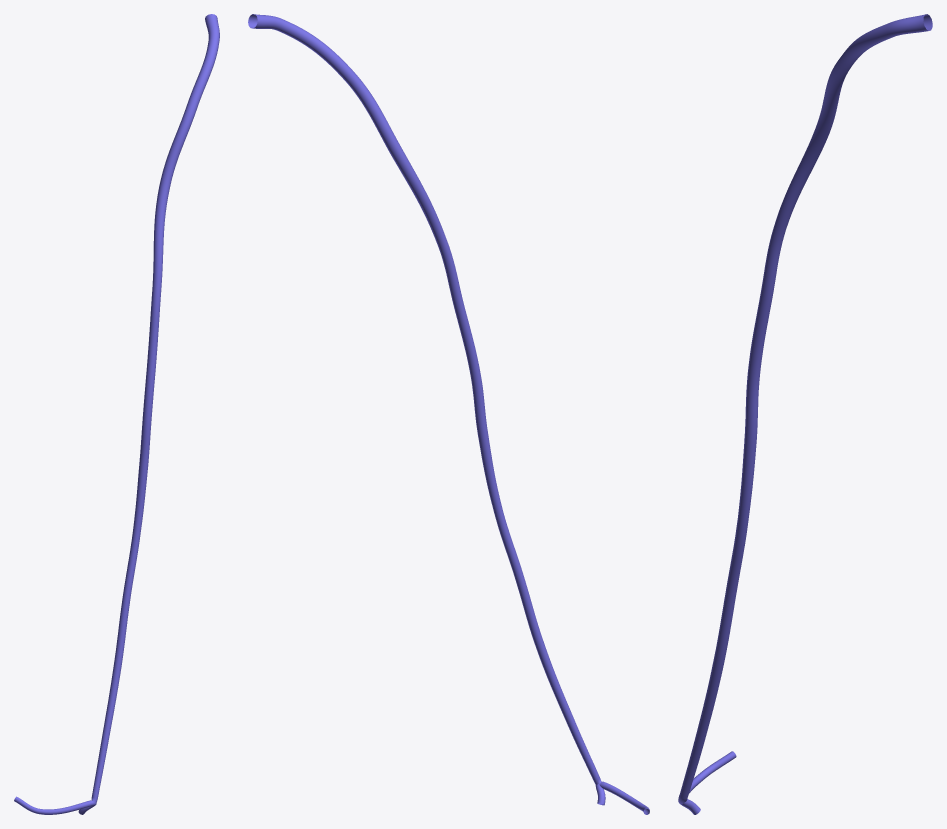
The model's file is Median_antebrachial_vein.r_BezierCurve.298.glb.
The picture shows the model from 3 angles, left to right: view 1: azimuth 30°, elevation 25°; view 2: azimuth 150°, elevation 25°; view 3: azimuth 270°, elevation 25°; orthographic projection. The views are drawn at different scales.
Parts seen in each view (by area): view 1: Median_antebrachial_vein.r_BezierCurve.298; view 2: Median_antebrachial_vein.r_BezierCurve.298; view 3: Median_antebrachial_vein.r_BezierCurve.298.
Part boxes in pixels (x1,y1,x2,y2): Median_antebrachial_vein.r_BezierCurve.298: [14, 14, 219, 814]; Median_antebrachial_vein.r_BezierCurve.298: [248, 14, 649, 814]; Median_antebrachial_vein.r_BezierCurve.298: [678, 14, 932, 814].
Size of the model in its own units: 0.0866 by 0.2079 by 0.0509.
